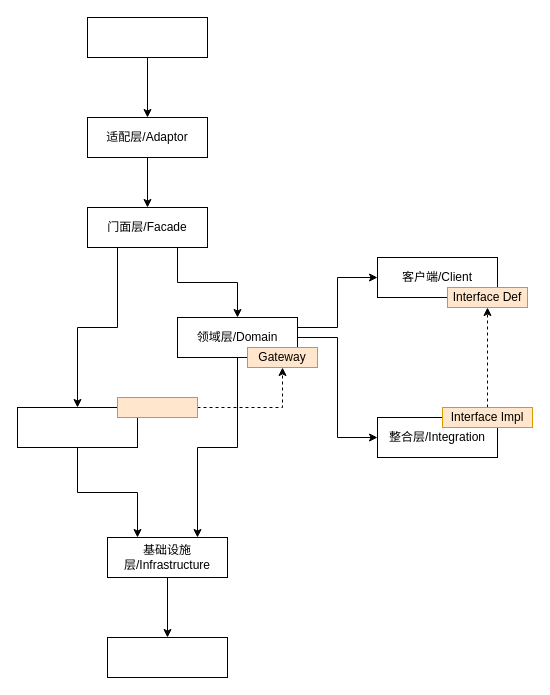
Image size: 550x695. Some labels were removed from this diagram. The centre of each missing label's shape, as x and y in pixels:
"GatewayImpl" goes at (157,407).
"启动类/Boot" goes at (147,37).
"工具层/Util" goes at (167,657).
"服务层（防腐层）/Service" goes at (77,427).
